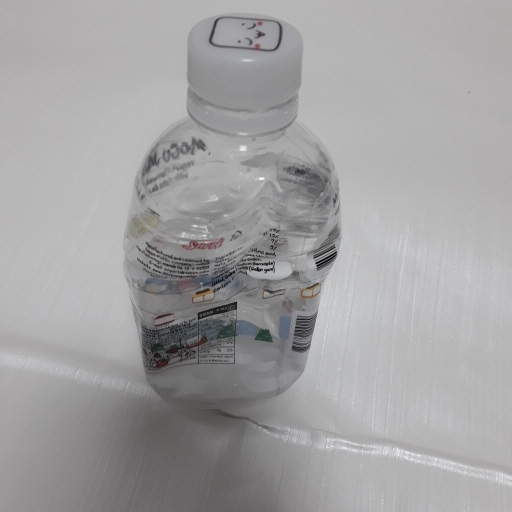Plastic_0: (124, 12, 345, 411)
